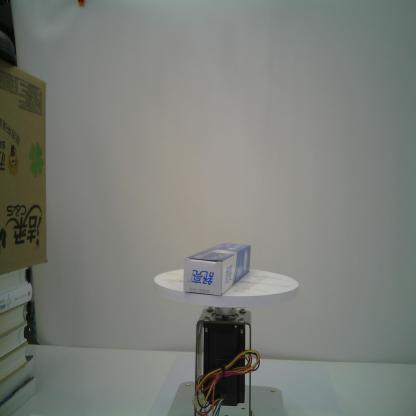Personal Hygiene: (183, 242, 252, 296)
